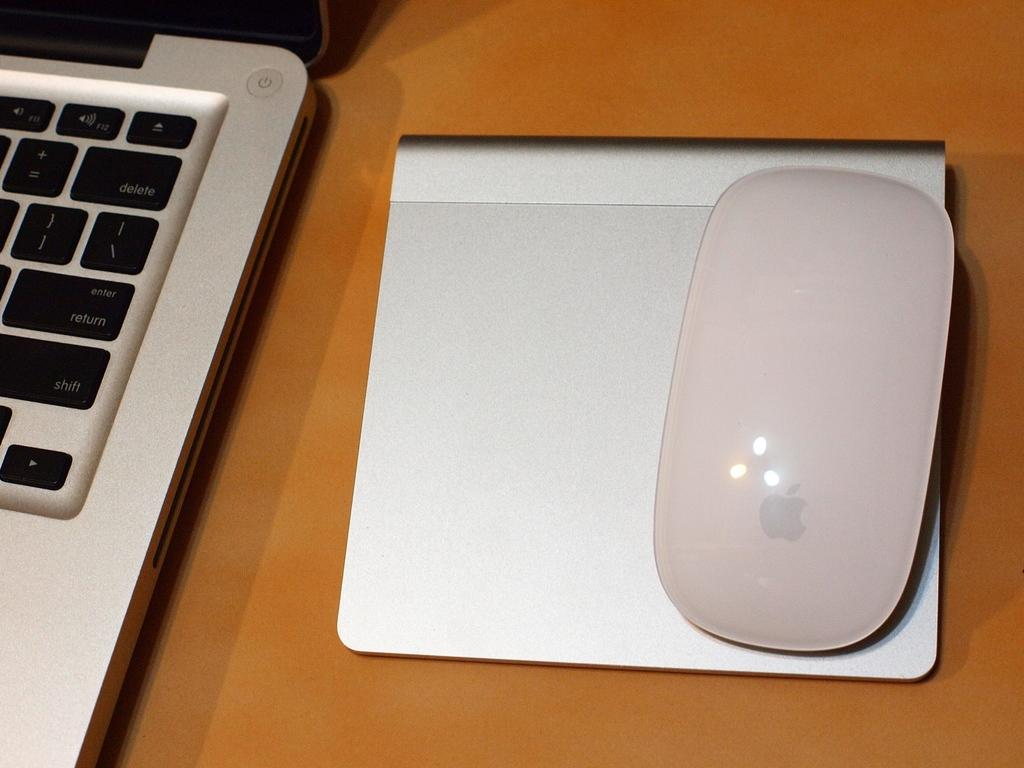Computer-mouse: (651, 162, 955, 654)
